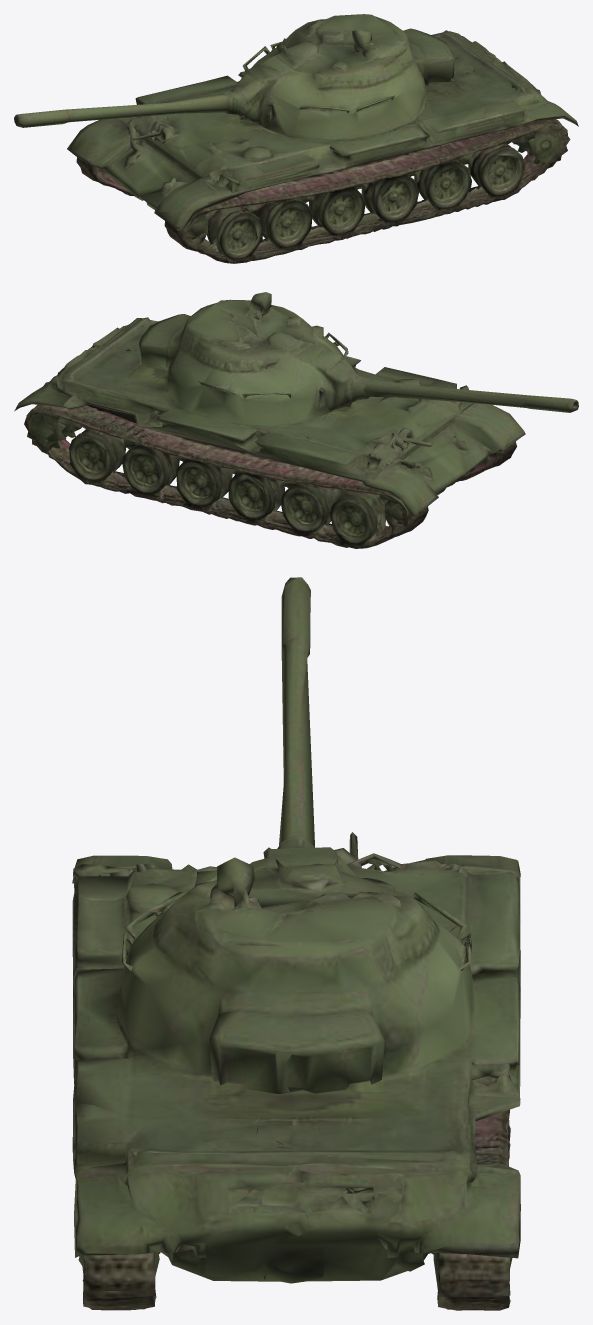
File: tank.glb
3 views of the same model, one above another, from view 1: azimuth 30°, elevation 25°; view 2: azimuth 150°, elevation 25°; view 3: azimuth 270°, elevation 25° (orthographic). The views are drawn at different scales.
Visible parts, largest first — view 1: Mesh_0; view 2: Mesh_0; view 3: Mesh_0.
Part boxes in pixels (x1,y1,x2,y2): Mesh_0: [14, 14, 578, 263]; Mesh_0: [14, 292, 578, 548]; Mesh_0: [72, 577, 520, 1310].
Size of the model in its own units: 1.9 by 0.6127 by 0.726.
1 material, 1 textured.
